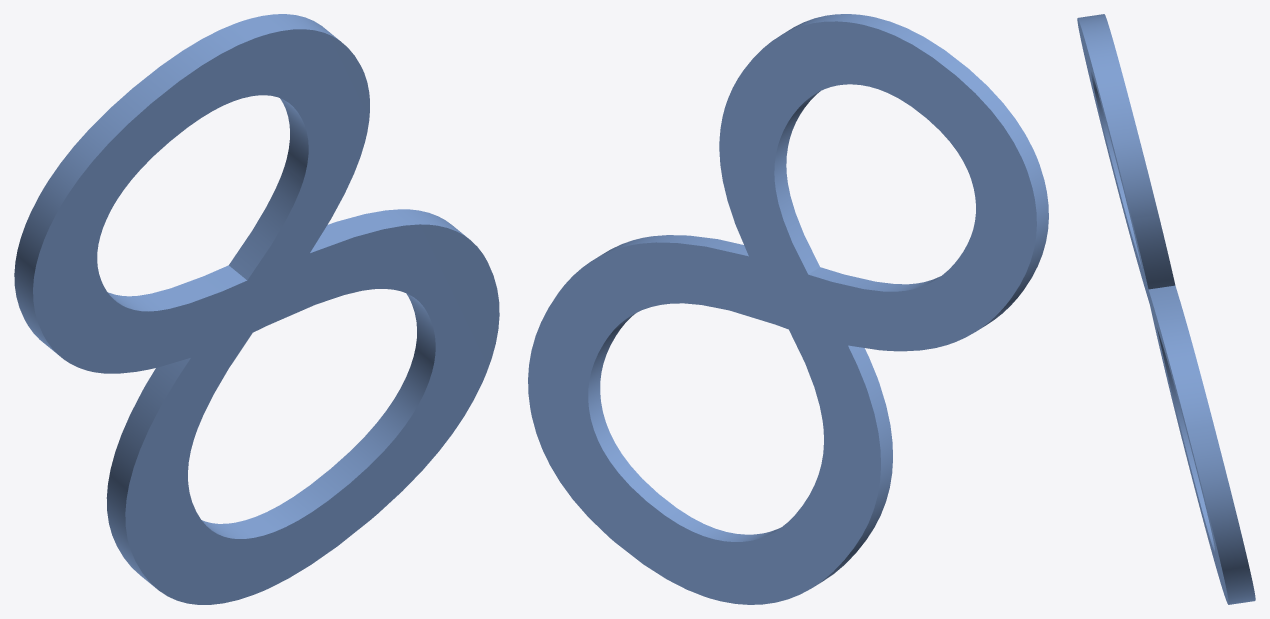
File: New_Number_8.gltf
3 renders of one model, left to right at view 1: azimuth 30°, elevation 25°; view 2: azimuth 150°, elevation 25°; view 3: azimuth 270°, elevation 25°, orthographic. The views are drawn at different scales.
Parts seen in each view (by area): view 1: Part 116; view 2: Part 116; view 3: Part 116.
Boxes of the visible parts, <box> form: Part 116: <box>14,14,499,604</box>; Part 116: <box>528,14,1048,604</box>; Part 116: <box>1077,14,1255,604</box>.
Bounding box in the file's own units: 0.00475 × 0.00547 × 0.00167.
